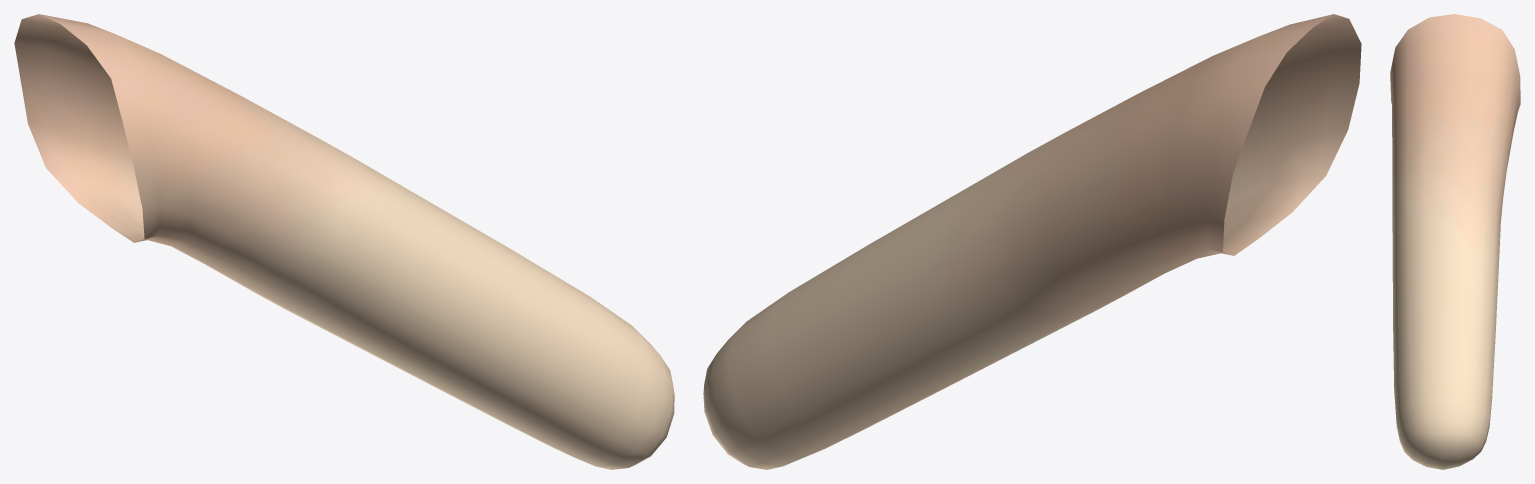
Rendered from CH01_Player_FirstPerson_Right_V01.fbx.
3 views of the same model, side by side, from view 1: azimuth 30°, elevation 25°; view 2: azimuth 150°, elevation 25°; view 3: azimuth 270°, elevation 25° (orthographic). The views are drawn at different scales.
Visible parts, largest first — view 1: Arm_1; view 2: Arm_1; view 3: Arm_1.
Part boxes in pixels (x1,y1,x2,y2): Arm_1: [14, 14, 674, 469]; Arm_1: [703, 14, 1361, 469]; Arm_1: [1390, 14, 1520, 469].
Size of the model in its own units: 8.08 by 7.28 by 2.79.
